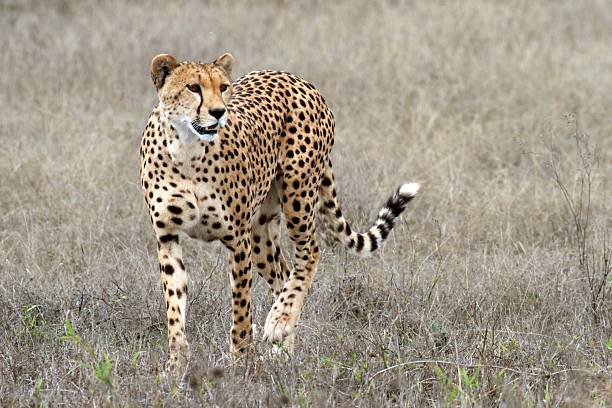cheetah: (138, 43, 255, 153)
